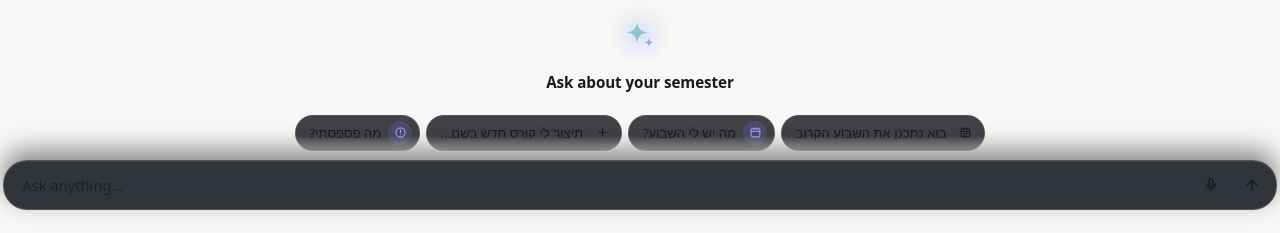
Test: AgentPanel › puts an unfinished suggestion in the input instead of sending it
This screenshot has width=1280, height=233.
Click the button "תיצור לי קורס חדש בשם...". click: (524, 133)
box: [426,115,622,151]
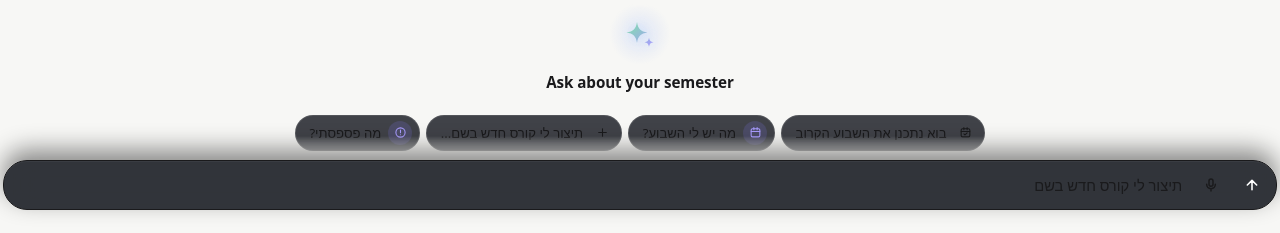
Expected: the text box holds "תיצור לי קורס חדש בשם ", [10,167,1188,203]
